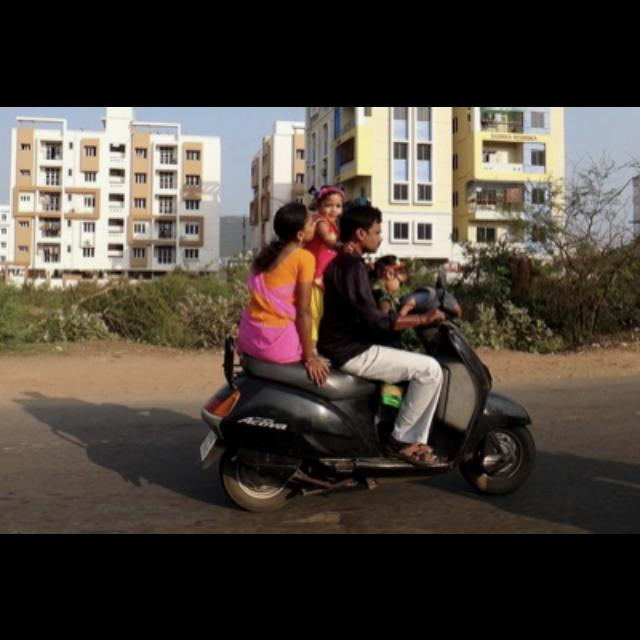Without Helmet: (337, 193, 388, 254), (273, 202, 315, 244), (309, 183, 343, 215)
